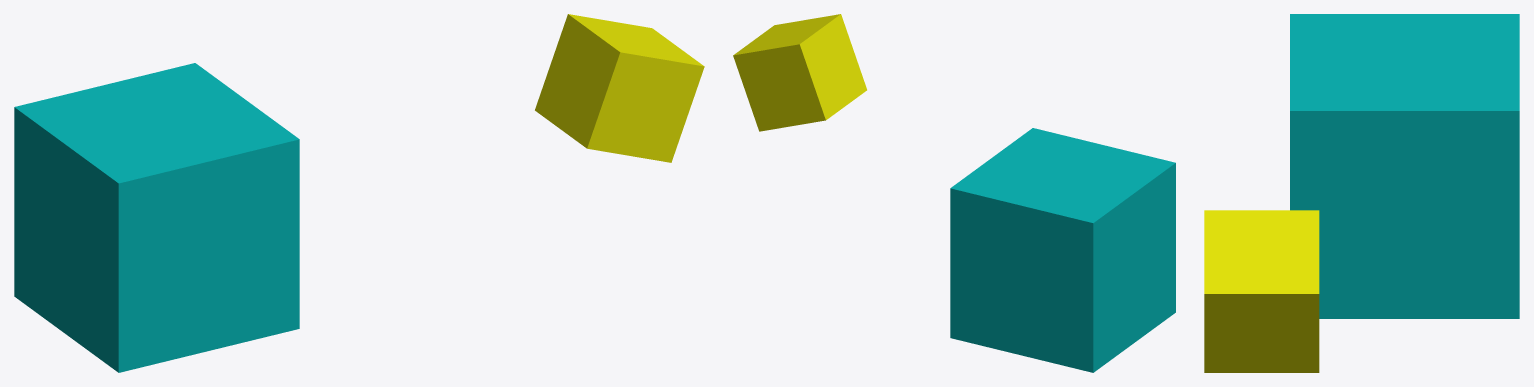
The model's file is BoxScene.fbx.
3 views of the same model, side by side, from view 1: azimuth 30°, elevation 25°; view 2: azimuth 150°, elevation 25°; view 3: azimuth 270°, elevation 25° (orthographic). The views are drawn at different scales.
Visible parts, largest first — view 1: pCube2, pCube1; view 2: pCube2, pCube1; view 3: pCube2, pCube1.
Part boxes in pixels (x1,y1,x2,y2): pCube2: (14, 63, 299, 372); pCube1: (535, 14, 704, 162); pCube2: (950, 128, 1175, 372); pCube1: (733, 14, 866, 131); pCube2: (1290, 14, 1519, 318); pCube1: (1204, 210, 1319, 372).
Bounding box in the file's own units: 6.03 × 2.49 × 2.74.
